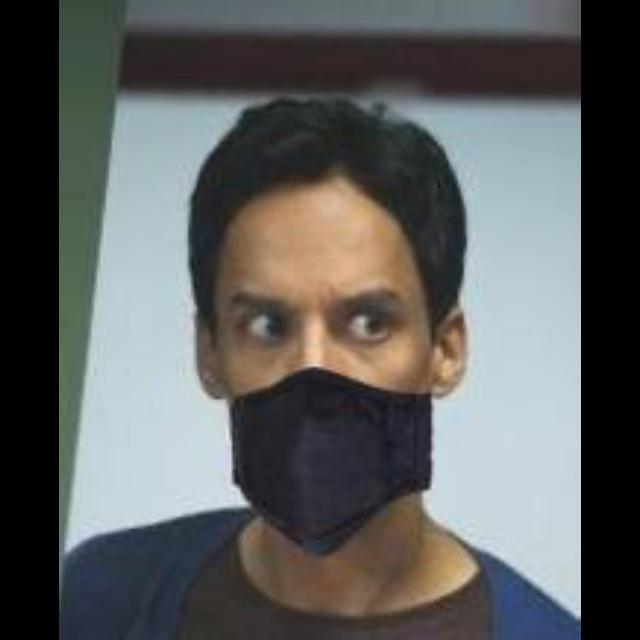suspicion: (190, 108, 488, 548)
